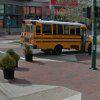Bus: (19, 13, 96, 57)
